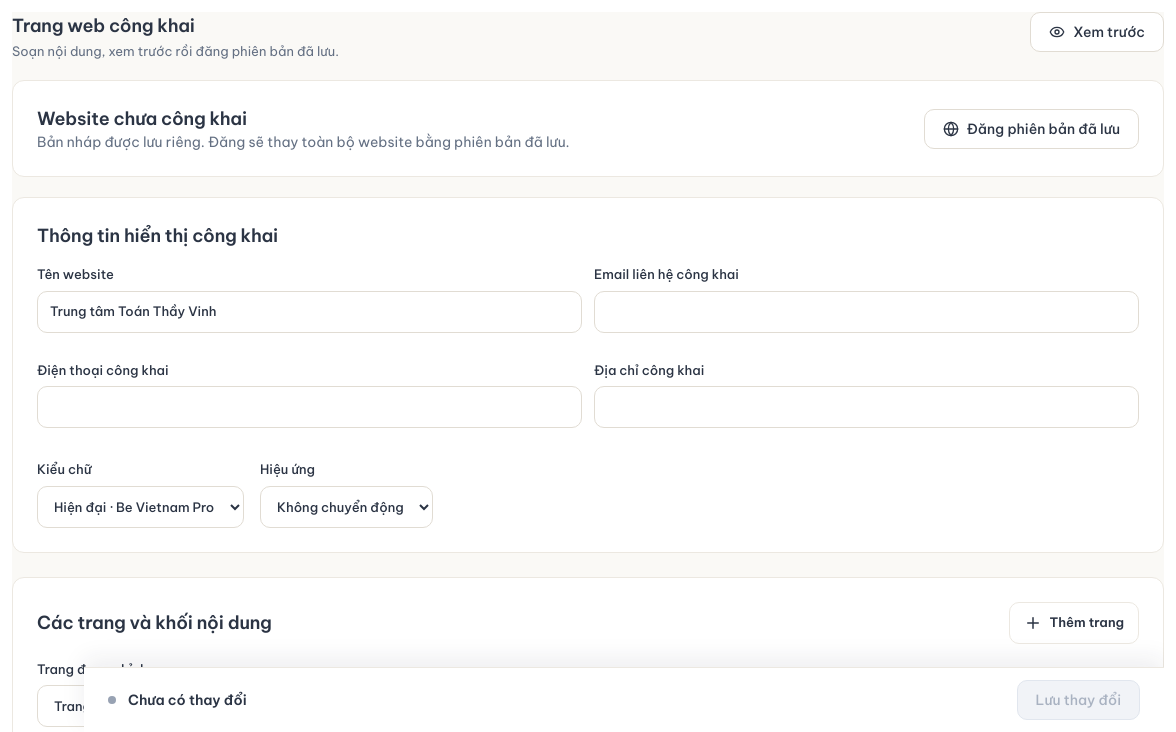
Scenario: shows a publish failure in the publish panel only
The image size is (1176, 732).
Click the button "Đăng phiên bản đã lưu". click: (1031, 128)
box: [924,108,1139,148]
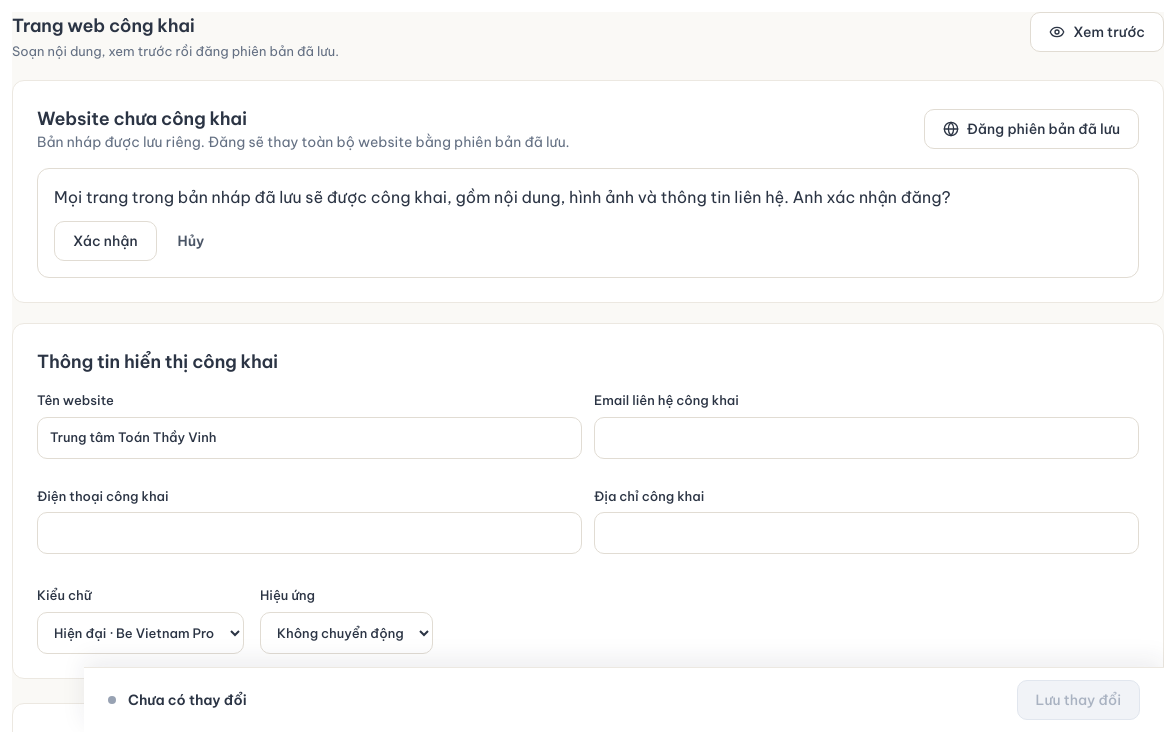
Click the button "Xác nhận". click: (105, 241)
box: [54,221,157,261]
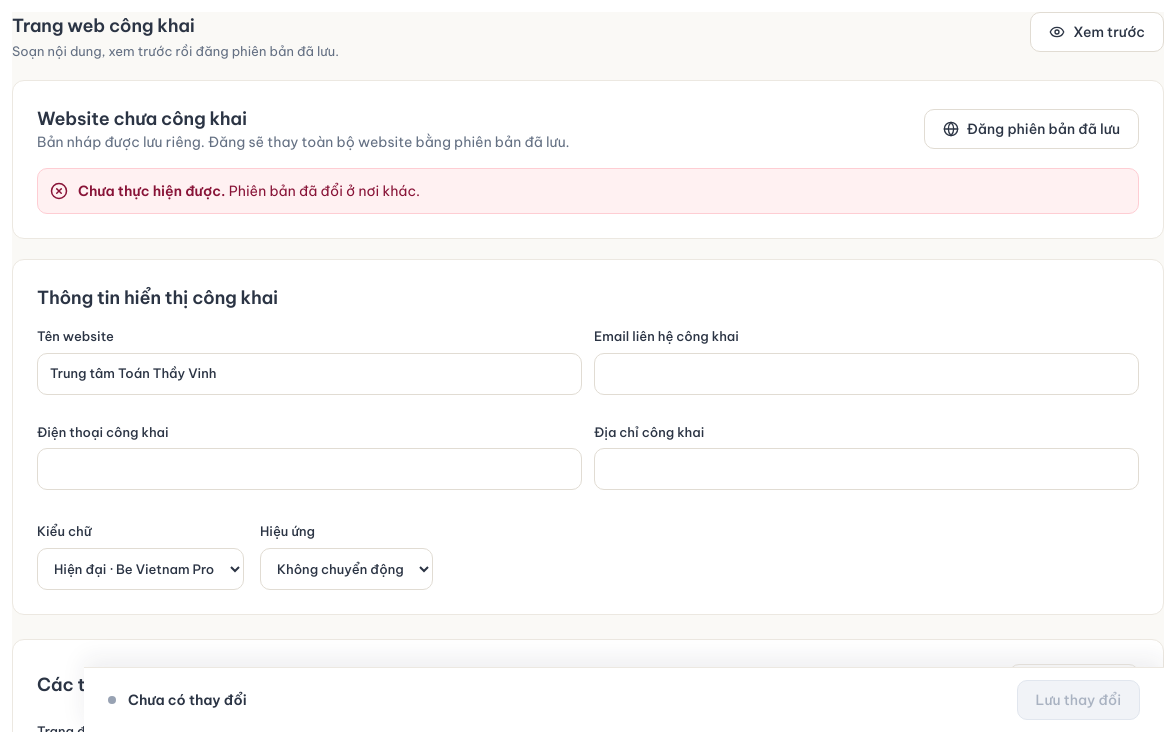
Expected: the heading "Website chưa công khai" is shown, [37,107,247,130]
Expected: the message shows "Chưa thực hiện được.", [78,182,226,200]
Expected: the message shows "Phiên bản đã đổi ở nơi khác.", [229,182,420,200]
